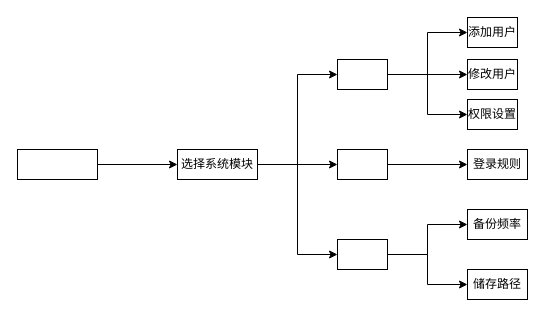
Image size: 545x317. Some labels were removed from this diagram. The box of each missing label's shape, as (x1, y1, x2, y2) in pixels:
数据存储: (336, 238, 388, 270)
用户管理: (336, 58, 388, 90)
设置参数: (336, 148, 388, 180)
进入系统设置: (16, 148, 98, 180)
